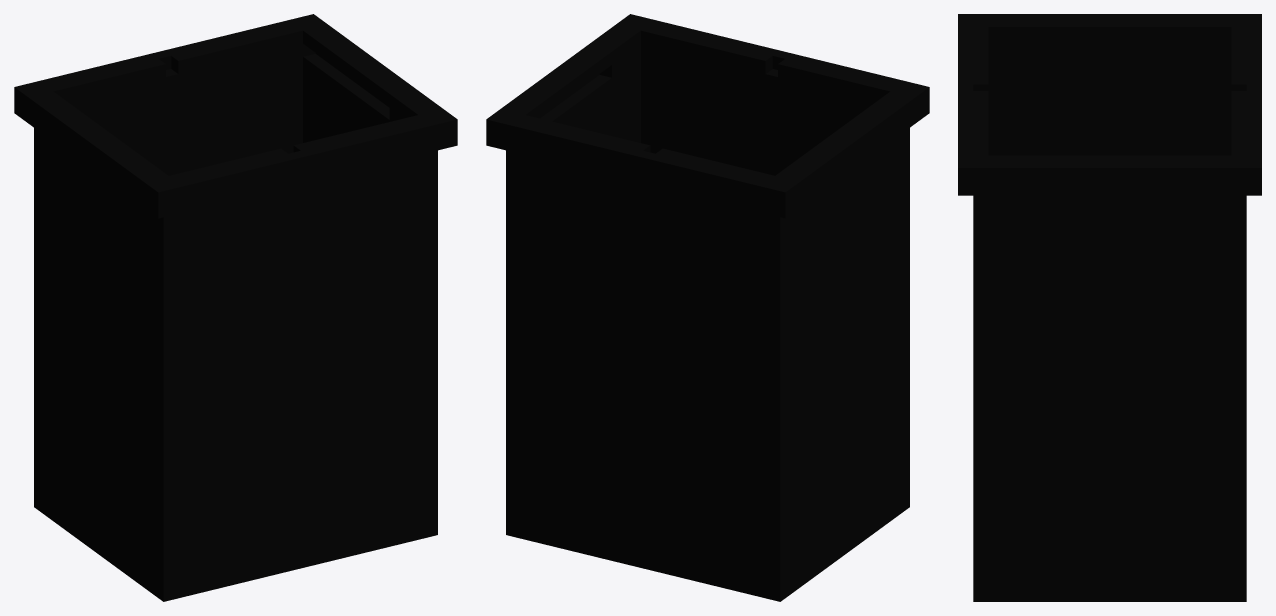
The model's file is gomi.fbx.
The picture shows the model from 3 angles, left to right: view 1: azimuth 30°, elevation 25°; view 2: azimuth 150°, elevation 25°; view 3: azimuth 270°, elevation 25°; orthographic projection. The views are drawn at different scales.
Parts seen in each view (by area): view 1: ObjObject.001; view 2: ObjObject.001; view 3: ObjObject.001.
Boxes of the visible parts, left/top/right/bottom form: ObjObject.001: left=14, top=14, right=457, bottom=601; ObjObject.001: left=486, top=14, right=929, bottom=601; ObjObject.001: left=958, top=14, right=1261, bottom=601.
Size of the model in its own units: 240 by 320 by 200.
